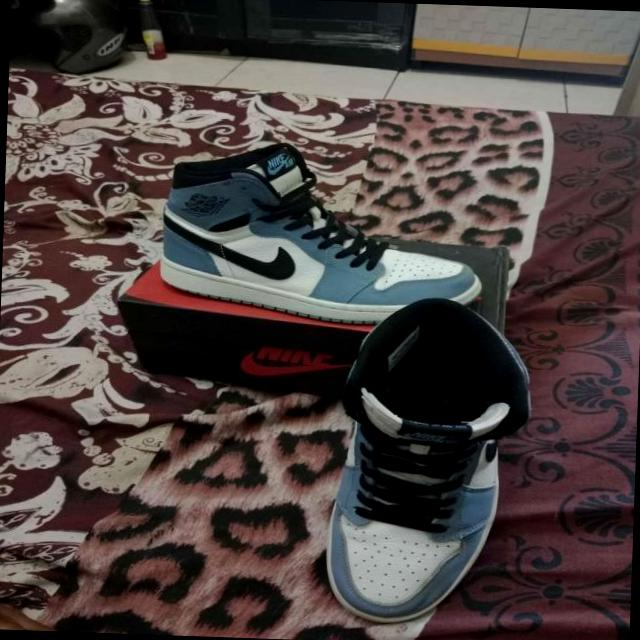nike_fake_jordan: (321, 293, 535, 639), (154, 136, 484, 330)
